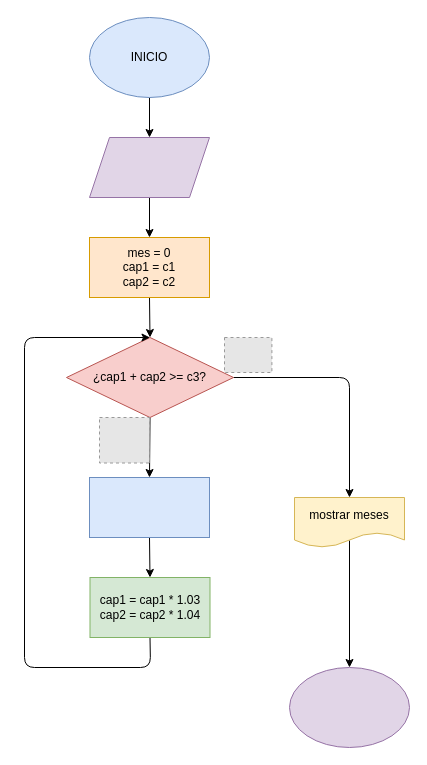
Some shapes in this 427 by 765 pixel diagram are drawn without their labels. Grey dashed boxes stand in for pictures. The shapes that lost their labels are listed below. From the top down, each one's centre as x and y in pixels, then its label:
At (149,167): "c1 , c2 , c3".
At (149,507): "mes = mes + 1".
At (349,707): "FIN".
